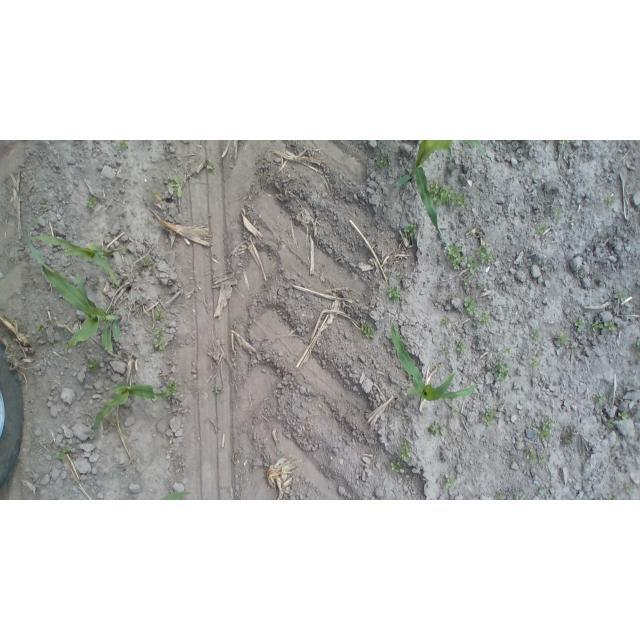Maize: (26, 210, 127, 351), (394, 142, 484, 253), (389, 321, 479, 406), (32, 225, 126, 287), (91, 379, 178, 433), (157, 489, 194, 500)
Weeds: (429, 180, 468, 210), (446, 245, 466, 272), (489, 361, 510, 381), (537, 419, 555, 442), (396, 440, 413, 463), (151, 325, 165, 351), (477, 245, 494, 266), (168, 174, 183, 196), (463, 297, 480, 316), (387, 285, 401, 304), (360, 323, 376, 339), (86, 357, 102, 372), (377, 154, 391, 171), (429, 422, 446, 436), (466, 255, 478, 274), (593, 391, 608, 406), (521, 446, 535, 462), (484, 409, 497, 426), (166, 379, 181, 393), (58, 445, 73, 459), (137, 254, 151, 269), (85, 195, 100, 209), (573, 317, 586, 332), (556, 333, 571, 346), (454, 340, 466, 356), (445, 472, 456, 489), (87, 280, 101, 293), (204, 158, 218, 171), (403, 224, 417, 237), (613, 289, 627, 302), (462, 275, 475, 288), (623, 483, 635, 496), (155, 309, 166, 323), (390, 460, 402, 472), (213, 387, 226, 398), (479, 312, 490, 325), (603, 417, 615, 428), (591, 321, 604, 331), (440, 343, 450, 356), (617, 411, 630, 421), (513, 491, 527, 500), (537, 225, 548, 236), (605, 320, 616, 330), (538, 454, 547, 466), (494, 492, 507, 500), (119, 141, 130, 150), (604, 196, 615, 205), (557, 141, 576, 146), (34, 322, 43, 332), (398, 270, 407, 280), (531, 329, 540, 339), (608, 493, 620, 500), (554, 211, 563, 220), (442, 316, 451, 325), (434, 363, 443, 372), (529, 358, 539, 366), (143, 218, 150, 229), (527, 168, 537, 175), (451, 408, 459, 416), (578, 271, 585, 279), (504, 348, 512, 355), (538, 486, 546, 493), (152, 189, 161, 195), (526, 261, 535, 267), (542, 264, 549, 271), (479, 283, 485, 290), (637, 340, 640, 351)
